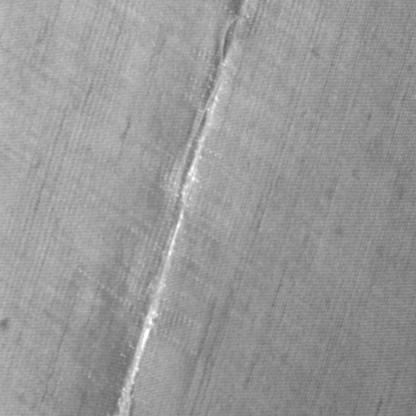hole: (107, 0, 254, 411)
